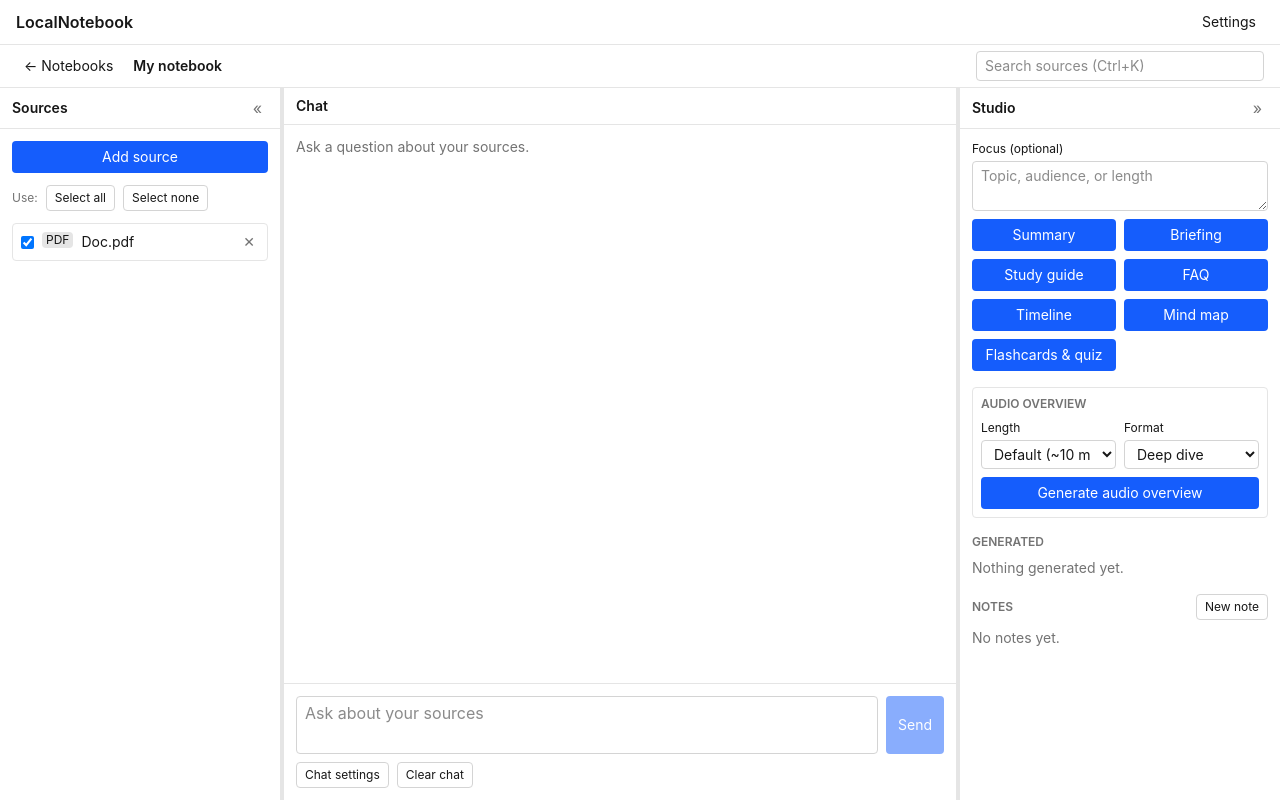
Test: Stop ends generation and the partial answer is kept and marked stopped
The image size is (1280, 800).
Type "Q?" into the text box named "Ask a question" at (587, 725), box [296, 696, 878, 754]
Then press Enter
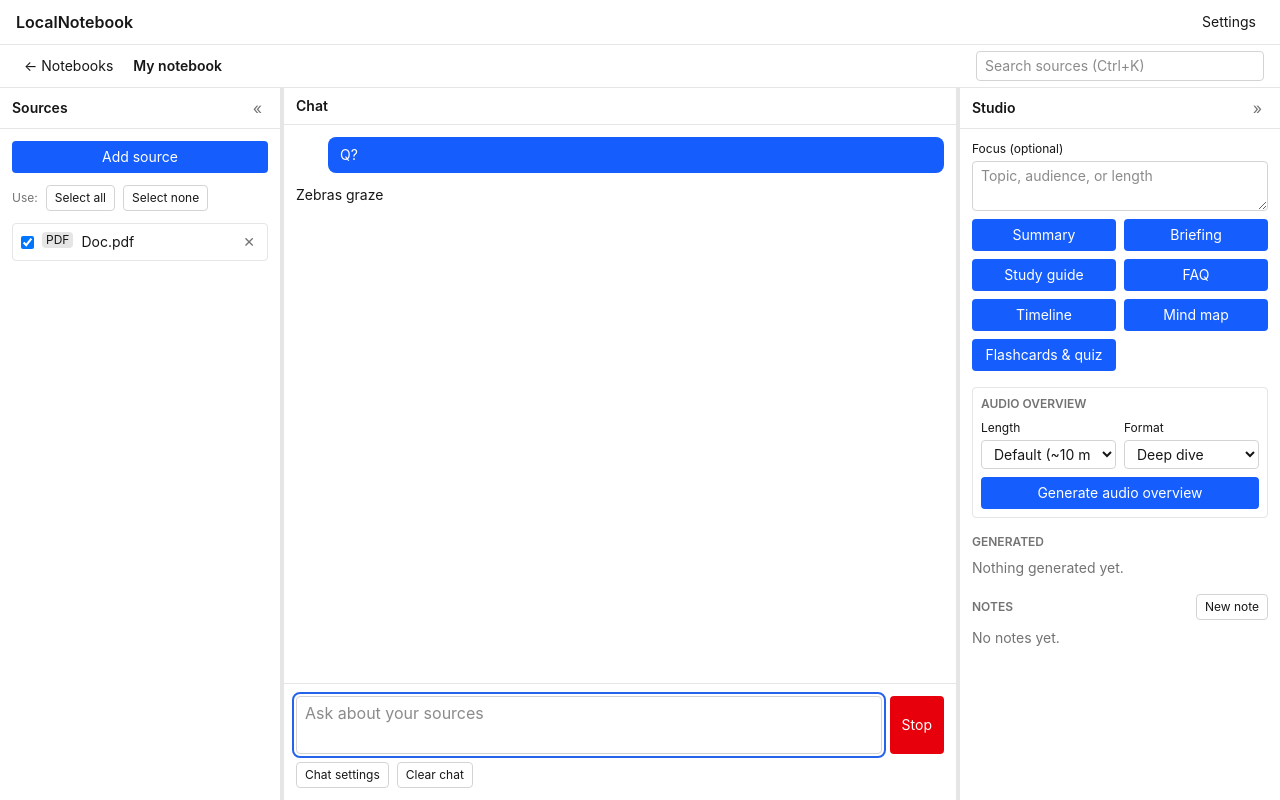
expect the text "Zebras graze" is shown: met, box [296, 186, 383, 203]
Click the button "Stop" at (917, 725), box [890, 696, 944, 754]
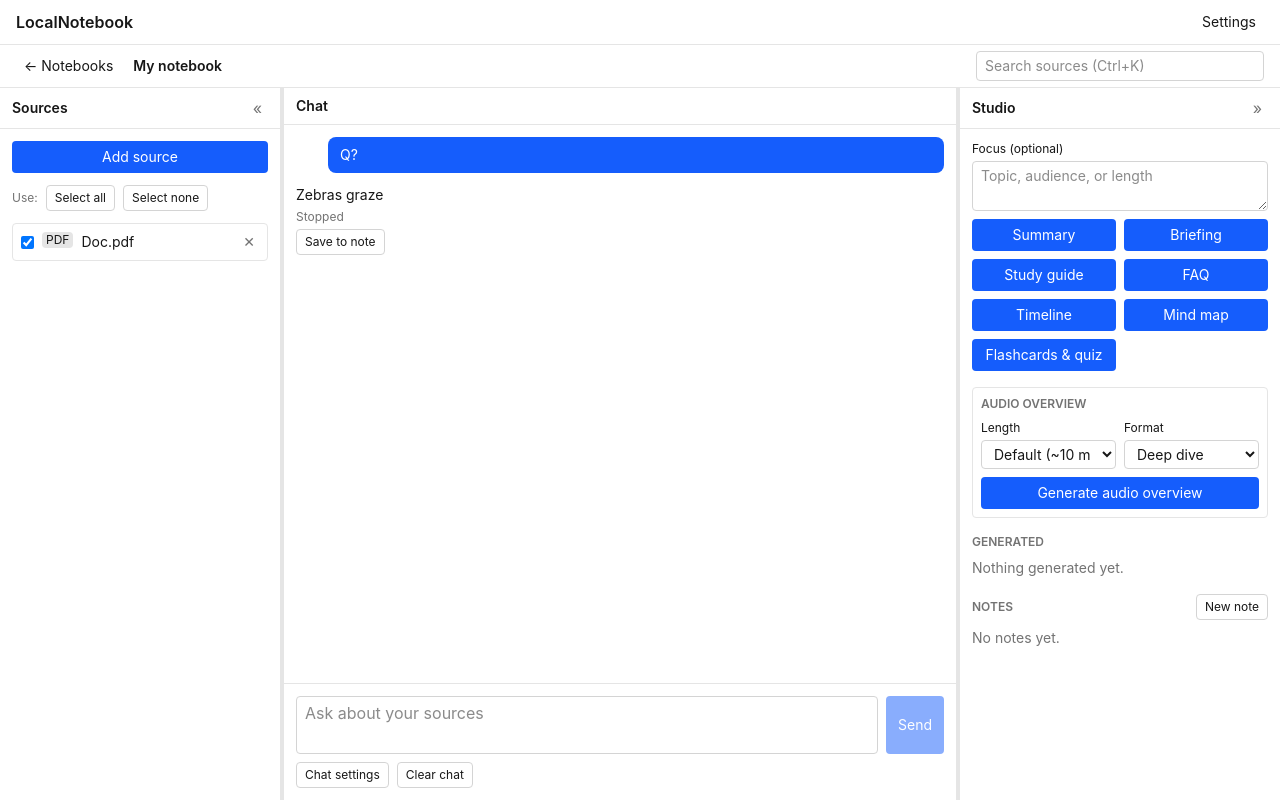
expect the text "Zebras graze" is shown: met, box [296, 186, 383, 203]
expect the text "Stopped" is shown: met, box [296, 209, 344, 224]
expect the button "Send" is shown: met, box [886, 696, 944, 754]
